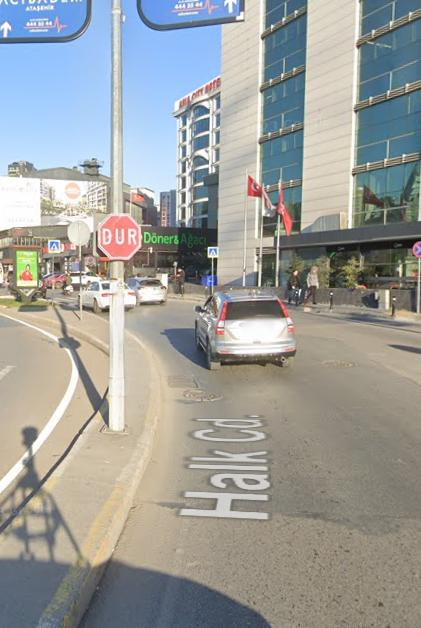stop: (99, 213, 143, 260)
